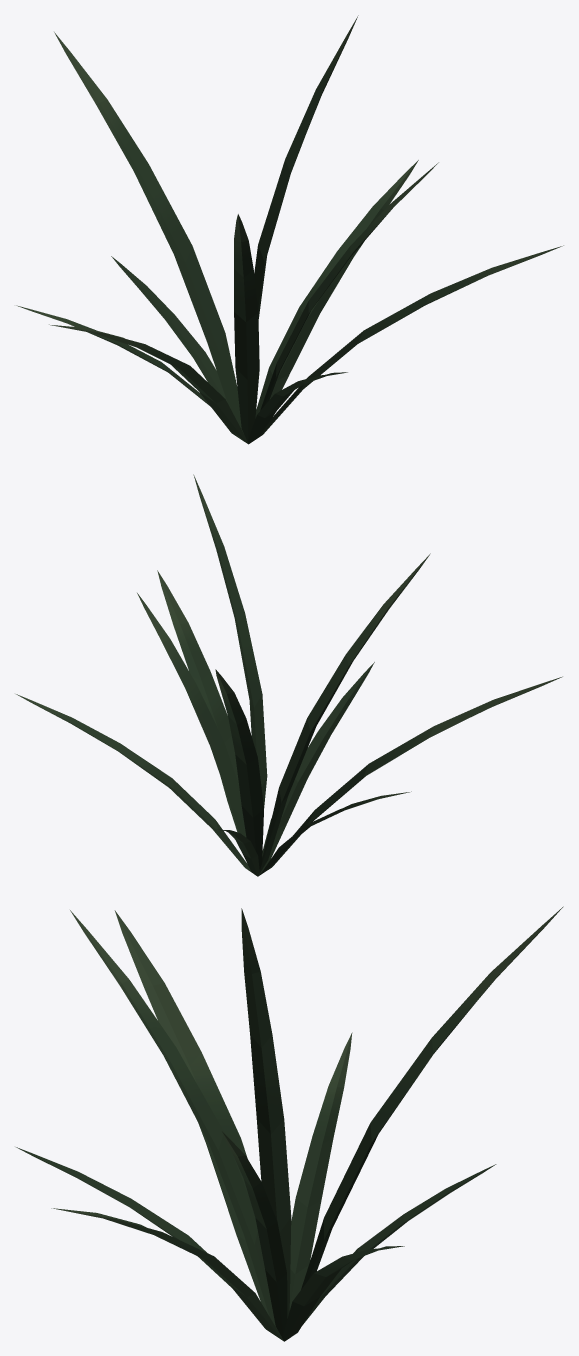
File: GrassFinal.fbx
3 views of the same model, one above another, from view 1: azimuth 30°, elevation 25°; view 2: azimuth 150°, elevation 25°; view 3: azimuth 270°, elevation 25° (orthographic). The views are drawn at different scales.
Parts seen in each view (by area): view 1: Grass; view 2: Grass; view 3: Grass.
Part boxes in pixels (x1,y1,x2,y2): Grass: (16, 15, 563, 444); Grass: (16, 474, 562, 876); Grass: (16, 906, 563, 1341).
Bounding box in the file's own units: 157 × 127 × 130.
